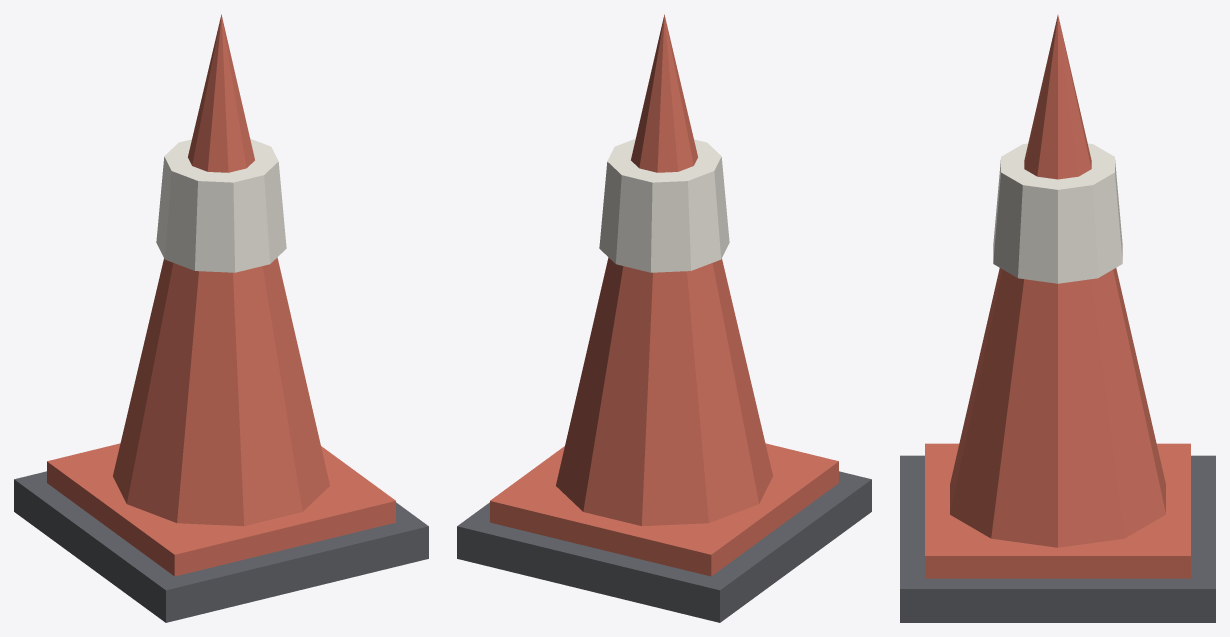
File: traffic_cone.glb
The picture shows the model from 3 angles, left to right: view 1: azimuth 30°, elevation 25°; view 2: azimuth 150°, elevation 25°; view 3: azimuth 270°, elevation 25°; orthographic projection. The views are drawn at different scales.
Visible parts, largest first — view 1: traffic-cone-vermilion, traffic-cone-charcoal, traffic-cone-cream; view 2: traffic-cone-vermilion, traffic-cone-charcoal, traffic-cone-cream; view 3: traffic-cone-vermilion, traffic-cone-charcoal, traffic-cone-cream.
Part boxes in pixels (x1,y1,x2,y2): traffic-cone-vermilion: (47, 14, 395, 576); traffic-cone-charcoal: (14, 471, 428, 622); traffic-cone-cream: (156, 139, 286, 272); traffic-cone-vermilion: (490, 14, 838, 576); traffic-cone-charcoal: (457, 471, 871, 622); traffic-cone-cream: (599, 139, 729, 272); traffic-cone-vermilion: (925, 15, 1190, 578); traffic-cone-charcoal: (900, 455, 1215, 622); traffic-cone-cream: (993, 143, 1122, 283).
Bounding box in the file's own units: 0.38 × 0.72 × 0.38.
